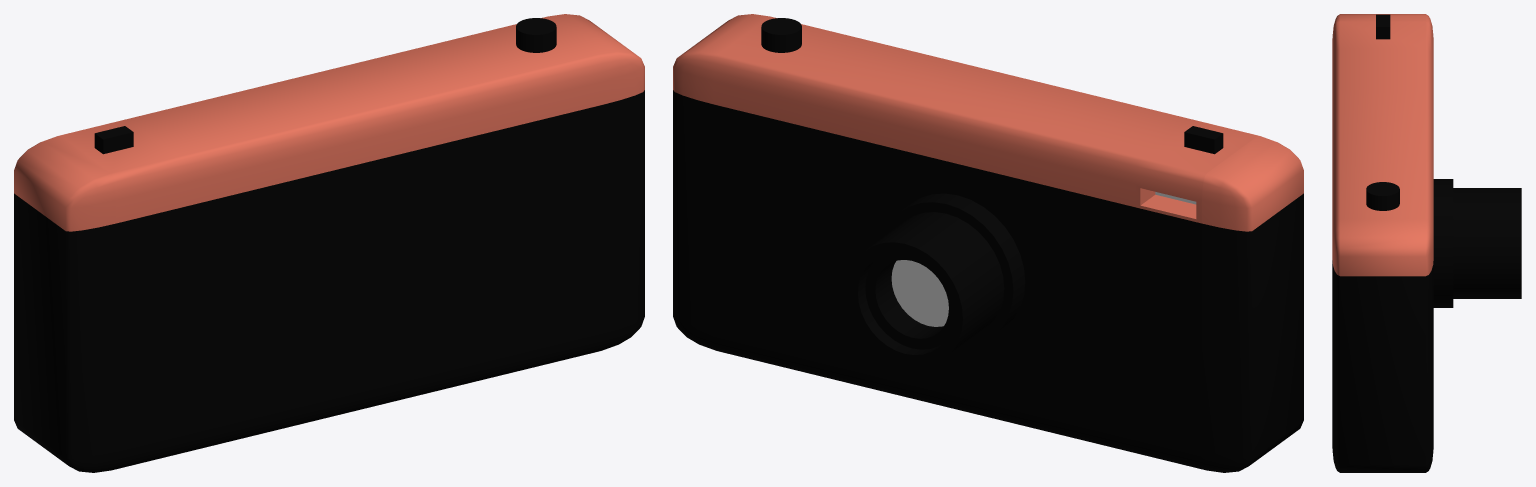
Rendered from Camera.fbx.
3 renders of one model, left to right at view 1: azimuth 30°, elevation 25°; view 2: azimuth 150°, elevation 25°; view 3: azimuth 270°, elevation 25°, orthographic. The views are drawn at different scales.
Parts seen in each view (by area): view 1: Cam; view 2: Cam; view 3: Cam.
Part boxes in pixels (<box>): Cam: <box>14,14,644,472</box>; Cam: <box>673,14,1303,472</box>; Cam: <box>1332,14,1521,472</box>.
Bounding box in the file's own units: 408 × 212 × 139.
